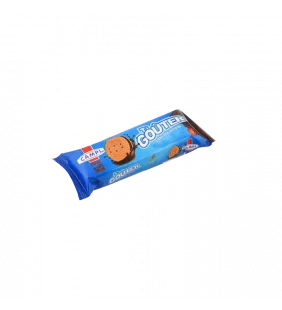CAMPI PLUS: (44, 100, 220, 205)
